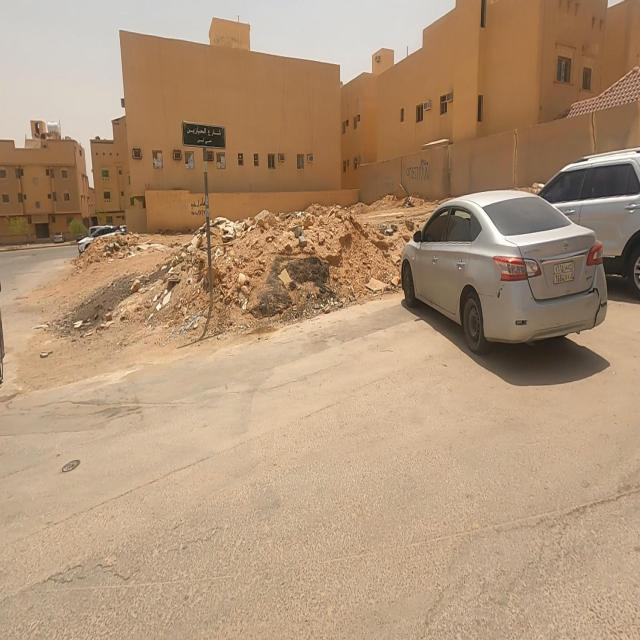Graffiti: (407, 159, 432, 183), (191, 197, 207, 217)
